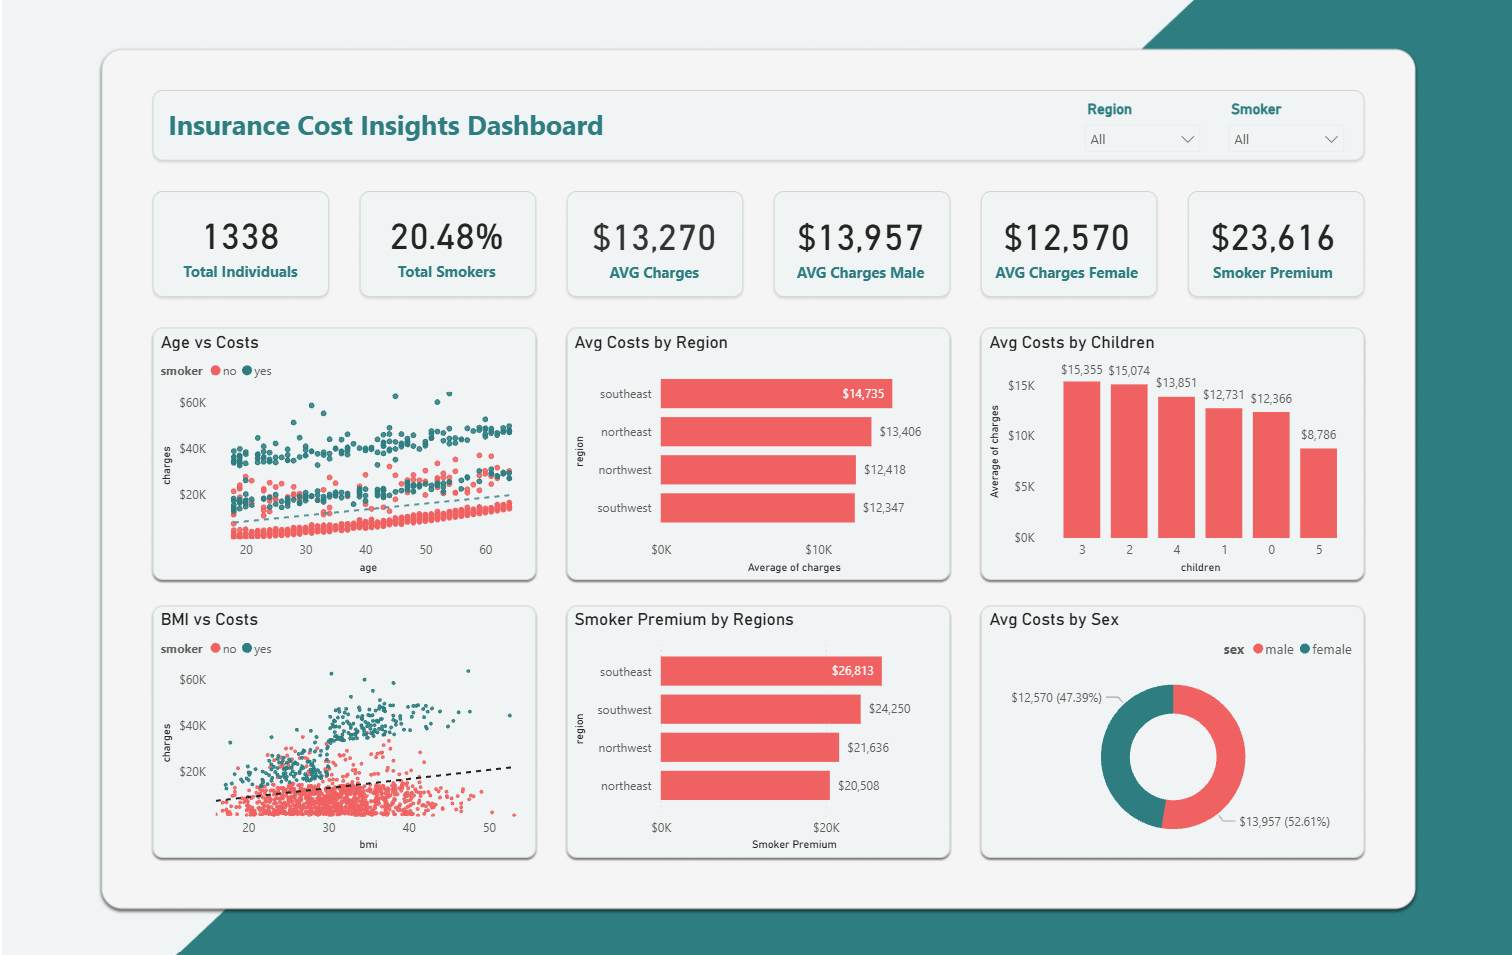

The page's visual inventory and layout, read from the dashboard file:
{"tool":"powerbi","page":{"name":"Insurance Report","canvas":[1280,720],"ordinal":0},"visuals":[{"type":"scatterChart","title":"Age vs Costs","fields":{"X":["insurance.age"],"Y":["insurance.charges"],"Series":["insurance.smoker"]},"box":[0,195,420,255],"z":0},{"type":"columnChart","title":"Avg Costs by Children","fields":{"Y":["Avg(insurance.charges)"],"Category":["insurance.children"]},"box":[865,195,415,255],"z":1000},{"type":"scatterChart","title":"BMI vs Costs","fields":{"X":["insurance.bmi"],"Y":["insurance.charges"],"Series":["insurance.smoker"]},"box":[0,460,378,255],"z":2000},{"type":"barChart","title":"Smoker by Charges","fields":{"Category":["insurance.SmokerLabel"],"Y":["Avg(insurance.charges)"],"Series":["insurance.sex"]},"box":[693,460,280.2,255],"z":3000},{"type":"donutChart","title":"Avg Costs by Sex","fields":{"Category":["insurance.sex"],"Y":["Avg(insurance.charges)"]},"box":[979.1,460,301.2,255],"z":4000},{"type":"textbox","box":[0,5,1280,65],"z":5000},{"type":"card","fields":{"Values":["Avg(insurance.charges)"]},"box":[426,77,207,110],"z":6000},{"type":"card","title":"Total Individuals","fields":{"Values":["insurance.Total Individuals"]},"box":[0,77,207,110],"z":7000},{"type":"card","fields":{"Values":["insurance.Percentage of Smokers"]},"box":[213,77,207,110],"z":8000},{"type":"barChart","title":"Avg Costs by Region","fields":{"Category":["insurance.region"],"Y":["Avg(insurance.charges)"]},"box":[434,195,420,255],"z":9000},{"type":"card","fields":{"Values":["insurance.Average Charges Male"]},"box":[639,77,210,110],"z":10000},{"type":"card","fields":{"Values":["insurance.Smoker Premium"]},"box":[1072,77,208,110],"z":11000},{"type":"barChart","fields":{"Y":["insurance.Smoker Premium"],"Category":["insurance.region"]},"box":[385,460,300,255],"z":12000},{"type":"card","fields":{"Values":["insurance.Average Charges Female"]},"box":[856,77,210,110],"z":13000},{"type":"slicer","fields":{"Values":["insurance.smoker"]},"box":[1085,7,190,59],"z":14000},{"type":"slicer","fields":{"Values":["insurance.region"]},"box":[890,7,190,59],"z":15000}]}

Visuals, with their boxes on the page's 1280x720 design canvas (x1, y1, x2, y2). These are canvas units, not pixel positions in the 1512x955 screenshot, which may show the page scaled, cropped or inside an application window:
"Age vs Costs" scatterChart: 0:195:420:450
"Avg Costs by Children" columnChart: 865:195:1280:450
"BMI vs Costs" scatterChart: 0:460:378:715
"Smoker by Charges" barChart: 693:460:973:715
"Avg Costs by Sex" donutChart: 979:460:1280:715
textbox: 0:5:1280:70
card - Avg(insurance.charges): 426:77:633:187
"Total Individuals" card: 0:77:207:187
card - insurance.Percentage of Smokers: 213:77:420:187
"Avg Costs by Region" barChart: 434:195:854:450
card - insurance.Average Charges Male: 639:77:849:187
card - insurance.Smoker Premium: 1072:77:1280:187
barChart - insurance.Smoker Premium x insurance.region: 385:460:685:715
card - insurance.Average Charges Female: 856:77:1066:187
slicer - insurance.smoker: 1085:7:1275:66
slicer - insurance.region: 890:7:1080:66
